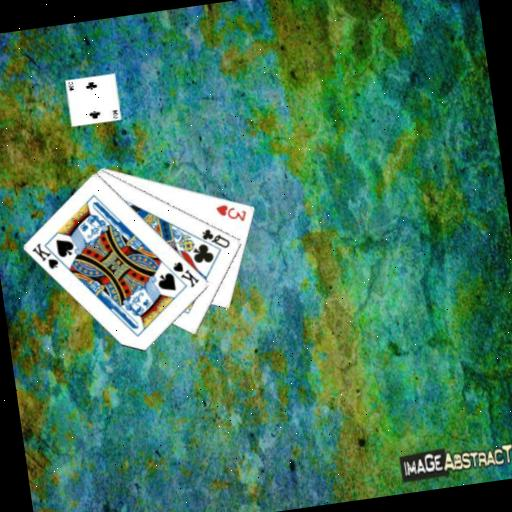3H: (212, 199, 249, 227)
KS: (29, 237, 67, 273), (169, 256, 202, 292)
QC: (198, 222, 233, 253)
